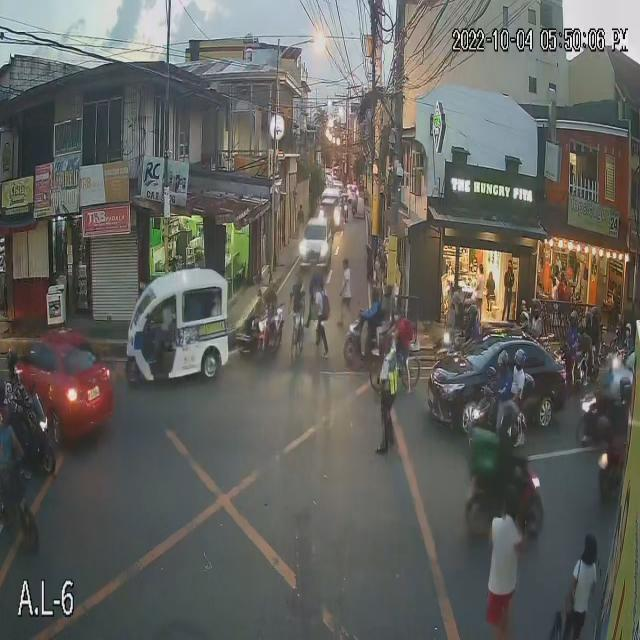helmet: (494, 409, 526, 442), (510, 350, 532, 371), (494, 351, 512, 374), (4, 351, 22, 371), (460, 287, 477, 307), (530, 297, 542, 319), (385, 282, 397, 303), (369, 283, 380, 303), (568, 309, 578, 330), (591, 305, 600, 324), (623, 324, 631, 339), (585, 312, 592, 323)
motorcycle: (464, 461, 541, 536), (0, 379, 56, 476), (343, 300, 412, 366), (578, 365, 636, 440), (478, 382, 530, 446), (234, 303, 286, 356), (596, 430, 632, 502), (552, 337, 602, 382), (436, 328, 470, 368), (609, 346, 636, 368)
rider: (493, 401, 531, 499), (0, 346, 31, 421), (489, 349, 515, 409), (510, 348, 536, 401), (461, 284, 483, 339), (522, 294, 547, 339), (256, 274, 283, 315), (378, 282, 399, 331), (364, 281, 380, 343), (564, 305, 580, 363), (617, 317, 636, 352), (592, 304, 604, 345), (582, 310, 593, 344)
